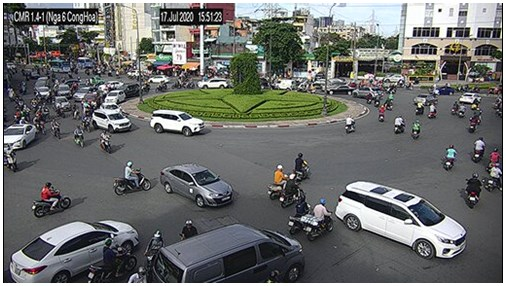xe_buyt: (48, 60, 70, 72), (78, 57, 92, 69)
xe_hoi: (334, 180, 468, 262), (150, 223, 304, 284), (9, 220, 138, 281), (160, 163, 234, 208), (150, 110, 206, 137), (4, 123, 39, 152), (92, 109, 133, 132), (351, 86, 382, 98), (196, 78, 228, 89), (119, 83, 142, 98), (72, 87, 98, 100), (323, 85, 354, 95), (52, 95, 70, 111), (104, 90, 126, 103), (458, 91, 480, 104), (431, 85, 454, 96), (100, 102, 121, 114), (97, 81, 120, 91), (379, 73, 404, 82), (272, 79, 294, 89), (35, 78, 48, 94), (147, 74, 169, 83), (54, 85, 70, 96), (37, 86, 51, 97)
xe_may: (89, 237, 137, 283), (112, 161, 152, 196), (31, 182, 70, 217), (305, 198, 333, 244), (288, 196, 314, 238), (144, 228, 164, 274), (280, 173, 305, 209), (267, 164, 287, 198), (293, 152, 312, 180), (466, 171, 480, 209), (484, 164, 503, 192), (442, 144, 457, 173), (3, 143, 17, 174), (472, 135, 486, 164), (180, 219, 198, 241), (489, 147, 502, 172), (34, 113, 47, 136), (73, 125, 85, 149), (99, 130, 111, 154), (50, 118, 62, 141), (392, 114, 405, 135), (410, 119, 422, 141), (344, 114, 356, 134), (378, 104, 387, 123), (473, 107, 482, 126), (427, 104, 438, 119), (469, 114, 477, 133), (156, 81, 168, 93), (415, 102, 425, 115), (459, 103, 467, 119), (387, 91, 396, 105), (451, 101, 460, 112)
